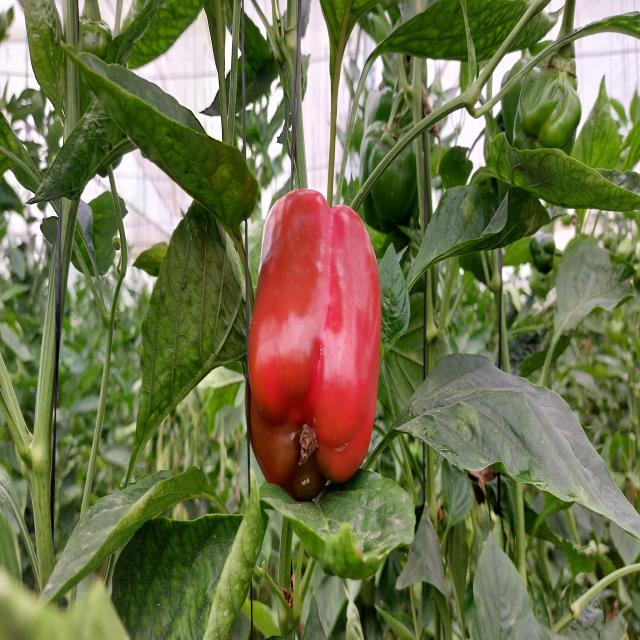Red-Ready-to-Harvest: (250, 179, 384, 499)
